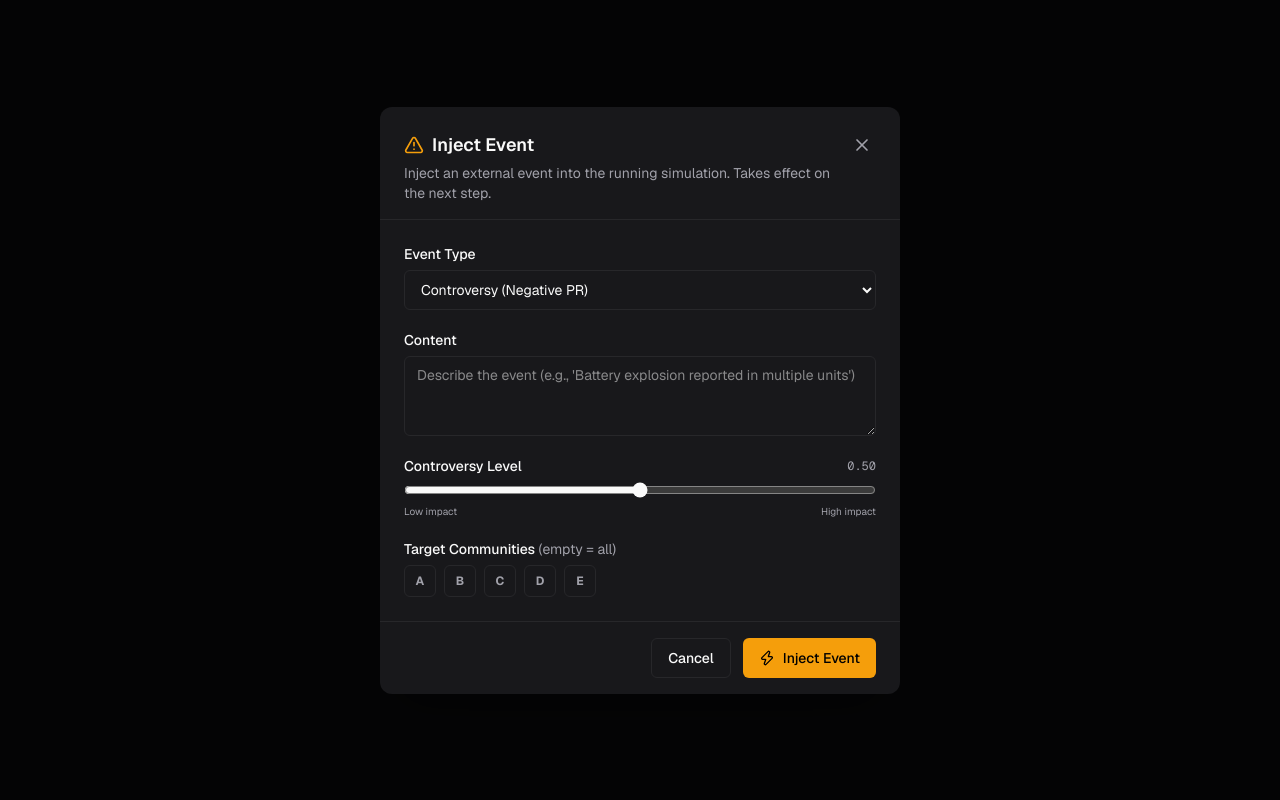
Test case: InjectEventModal › shows error message on mutation failure
Replace the text in the text box with placeholder "Describe the event" with "Test" at (640, 396), box [404,356,876,436]
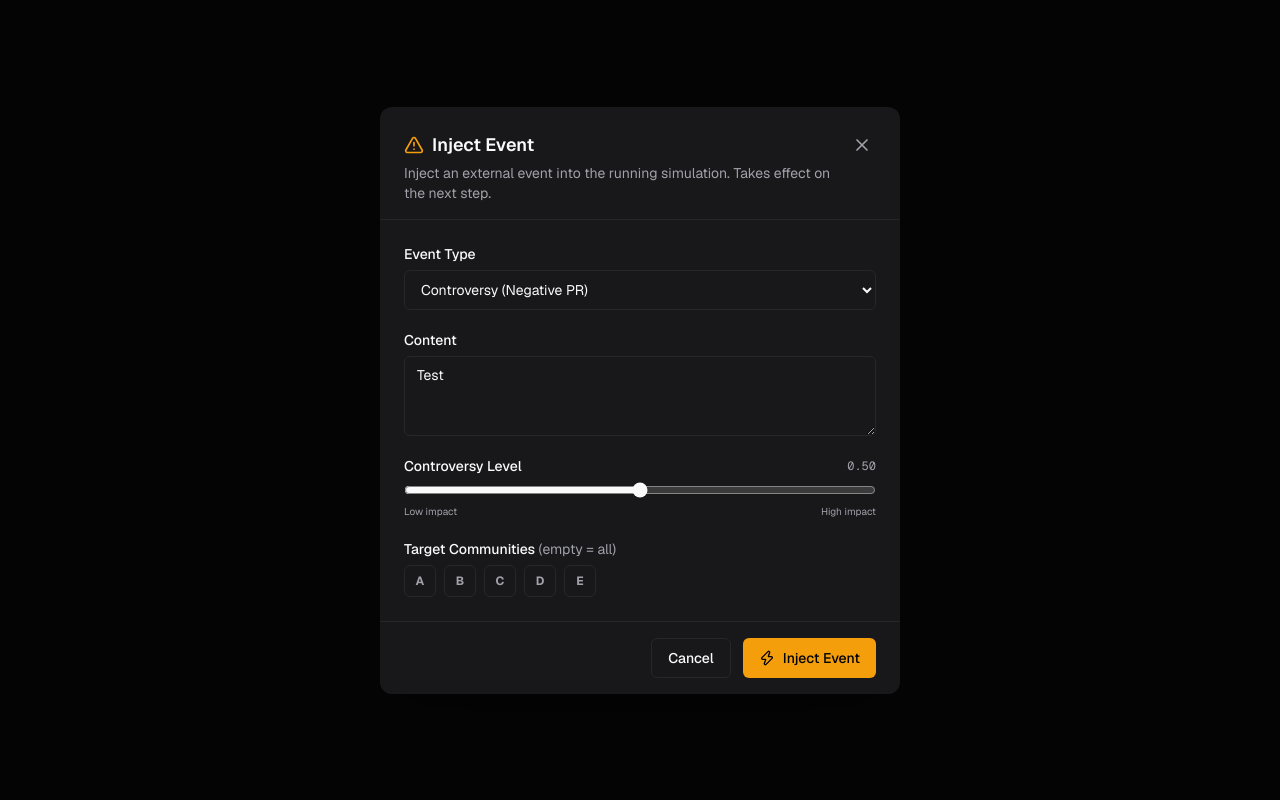
Click the button "Inject Event" at (809, 658), box [743,638,876,678]
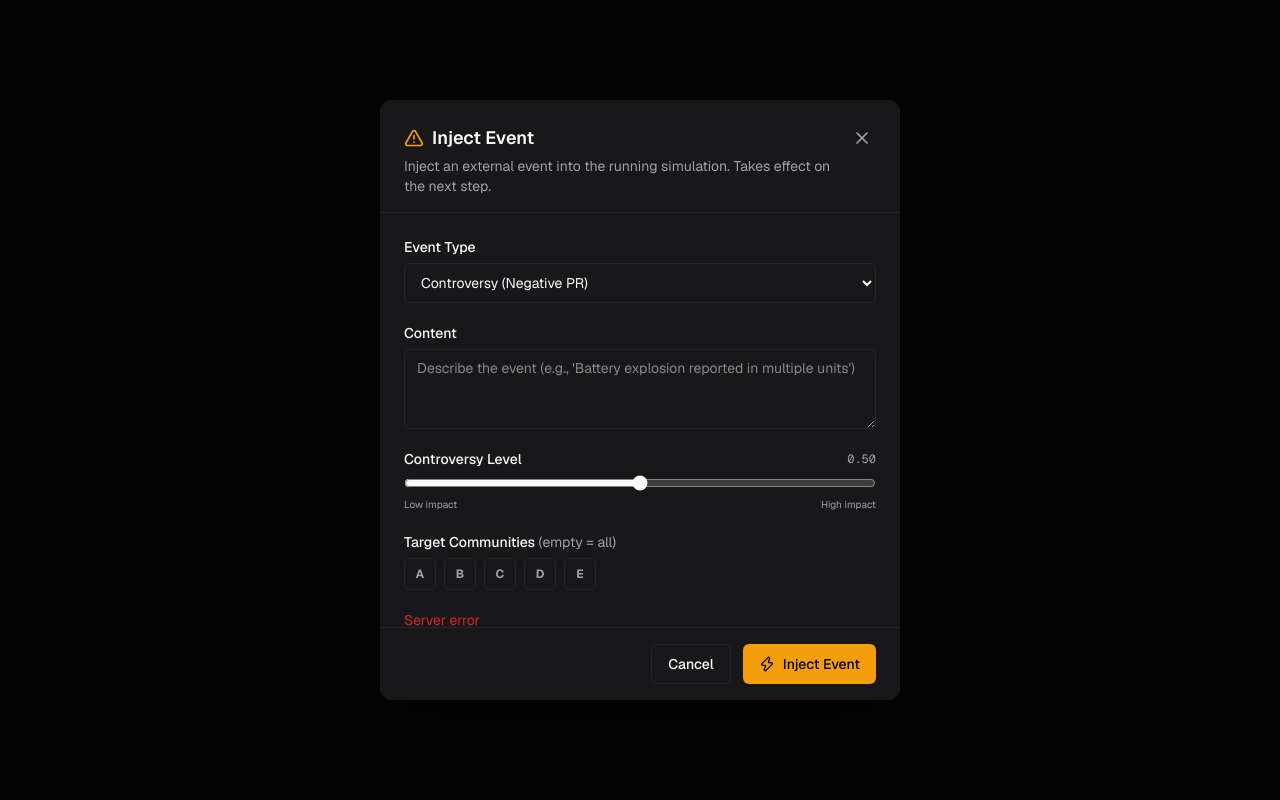
Expected: the text "Server error" is shown, [404,611,480,627]
